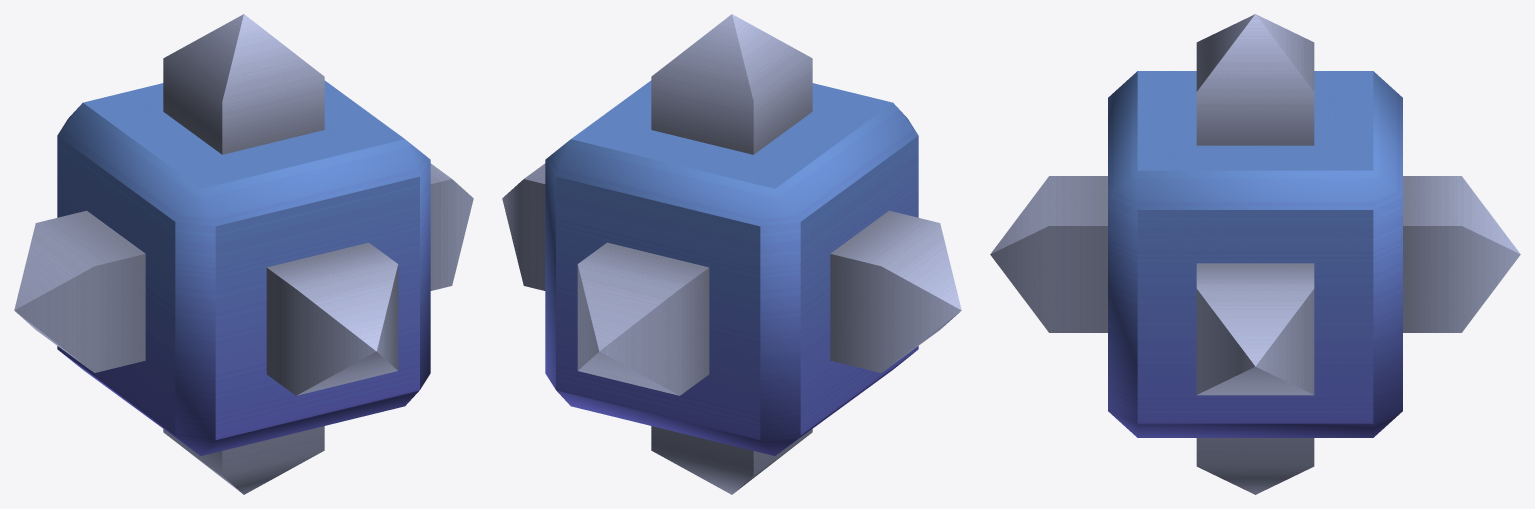
File: spike-block.glb
3 views of the same model, side by side, from view 1: azimuth 30°, elevation 25°; view 2: azimuth 150°, elevation 25°; view 3: azimuth 270°, elevation 25° (orthographic).
Visible parts, largest first — view 1: spike-block; view 2: spike-block; view 3: spike-block.
Boxes of the visible parts, x1=… form: spike-block: x1=14, y1=14, x2=473, y2=494; spike-block: x1=502, y1=14, x2=961, y2=494; spike-block: x1=990, y1=14, x2=1520, y2=494.
Size of the model in its own units: 0.9 by 0.9 by 0.9.
1 material, 1 textured.
